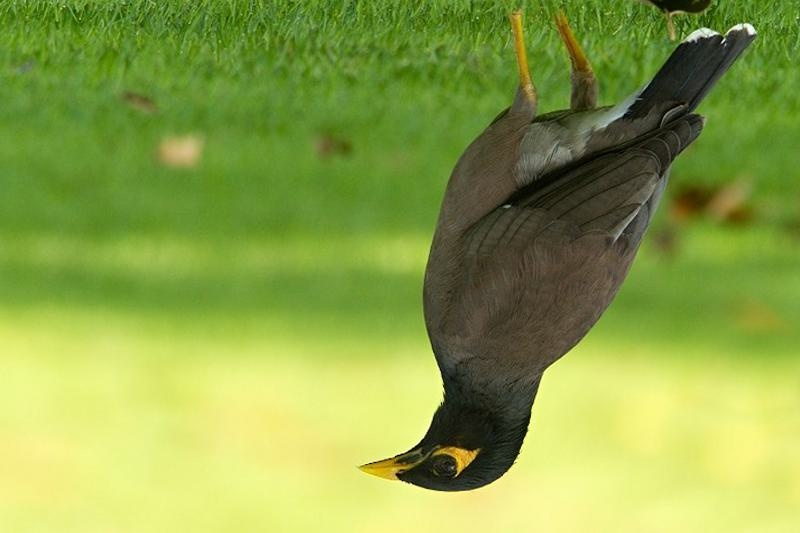myna: (353, 48, 683, 502)
